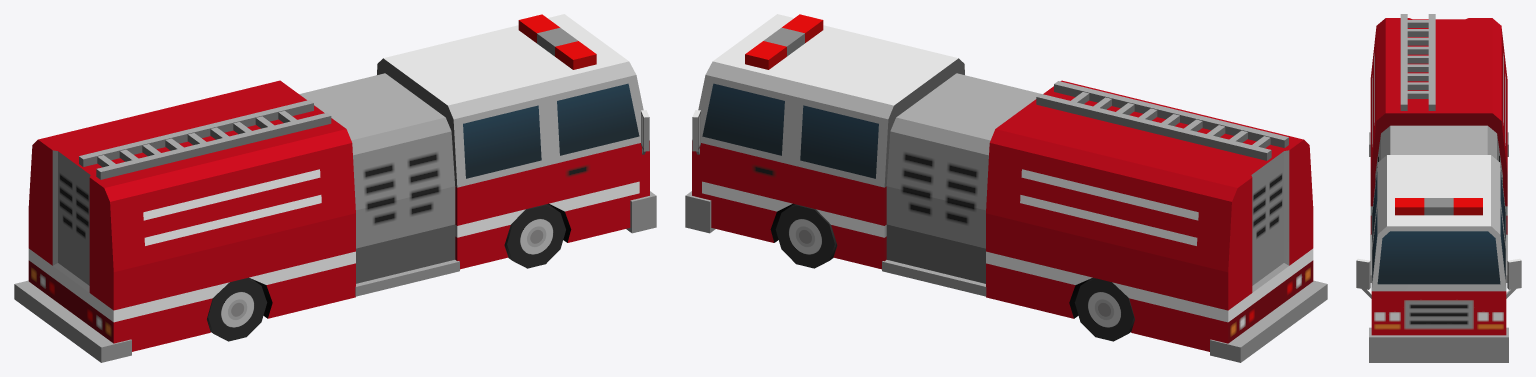
Rendered from Emergency_006.glb.
3 renders of one model, left to right at view 1: azimuth 30°, elevation 25°; view 2: azimuth 150°, elevation 25°; view 3: azimuth 270°, elevation 25°, orthographic. The views are drawn at different scales.
Parts seen in each view (by area): view 1: Emergency_006, wheel_1_Emergency_006_Wheel_1R, wheel_3_Emergency_006_Wheel_2R; view 2: Emergency_006, wheel_0_Emergency_006_Wheel_1L, wheel_2_Emergency_006_Wheel_2L; view 3: Emergency_006.
Boxes of the visible parts, x1,y1,x2,y2 form: Emergency_006: (14, 14, 656, 362); wheel_1_Emergency_006_Wheel_1R: (504, 204, 565, 268); wheel_3_Emergency_006_Wheel_2R: (207, 277, 267, 341); Emergency_006: (685, 14, 1327, 362); wheel_0_Emergency_006_Wheel_1L: (775, 204, 837, 268); wheel_2_Emergency_006_Wheel_2L: (1074, 277, 1134, 341); Emergency_006: (1356, 14, 1521, 362).
Size of the model in its own units: 7.38 by 2.34 by 2.37.
Materials: 1 (1 with a texture image).
